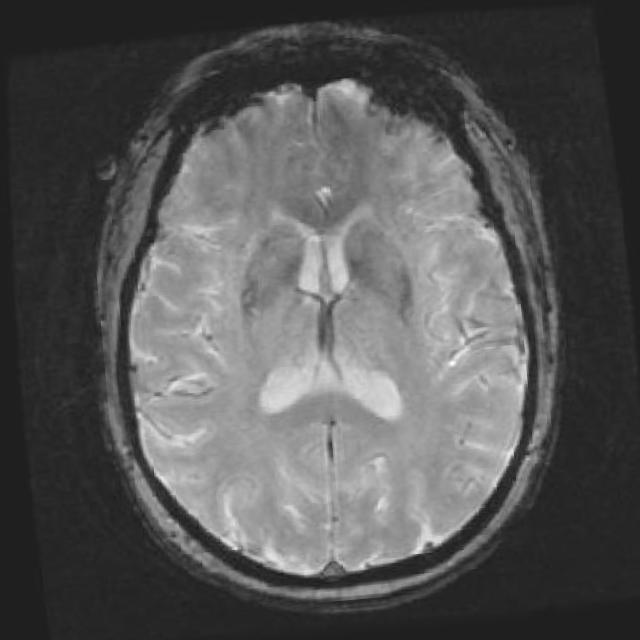LMCI: (156, 277, 250, 463)
MCI: (432, 258, 540, 404)
